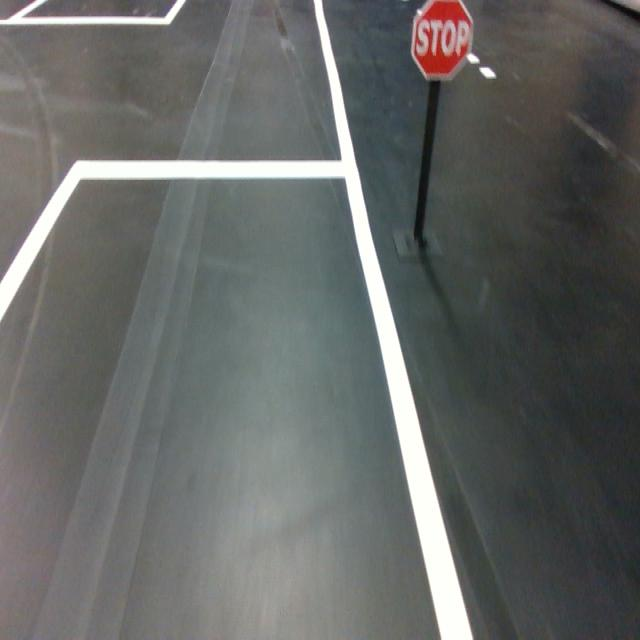stop-sign: (410, 0, 473, 81)
